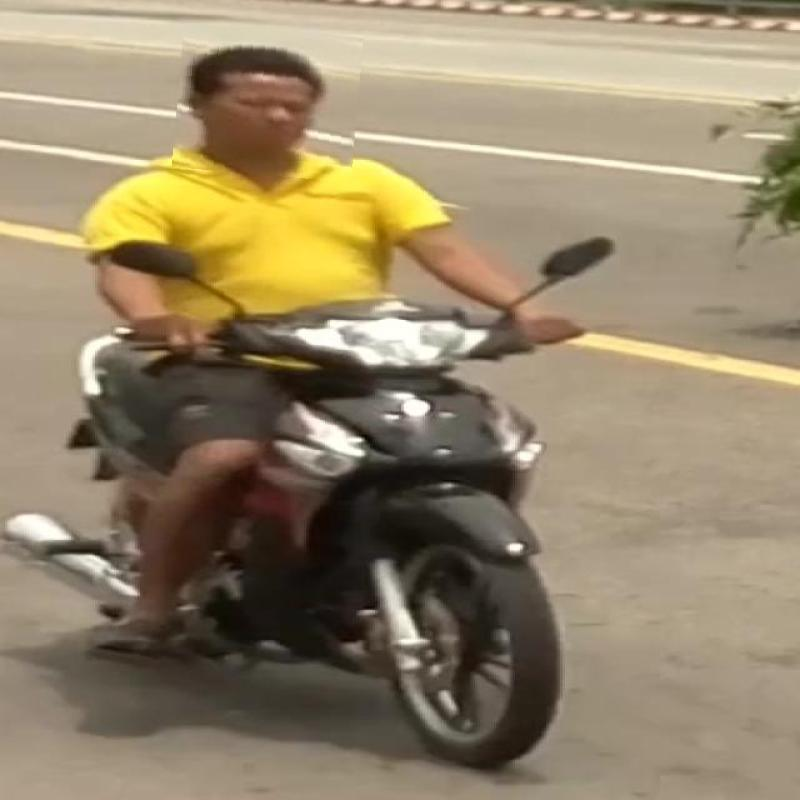nohelmet: (176, 26, 361, 179)
